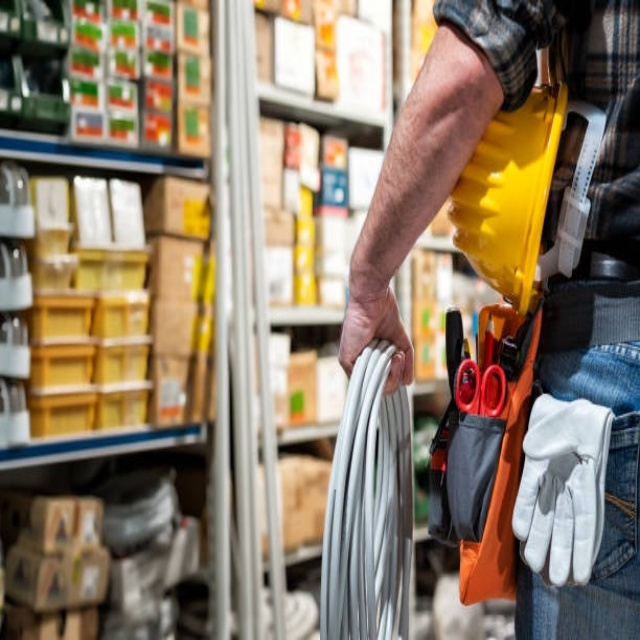Sin_guantes: (338, 277, 415, 395)
